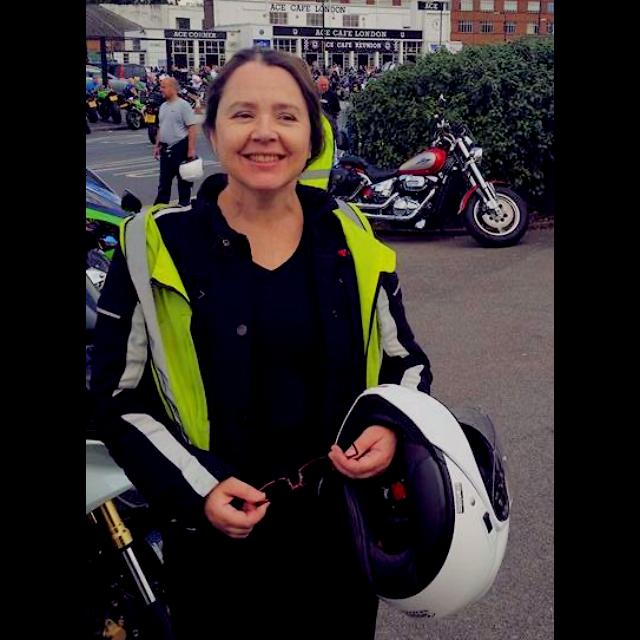With Helmet: (195, 34, 332, 186)
